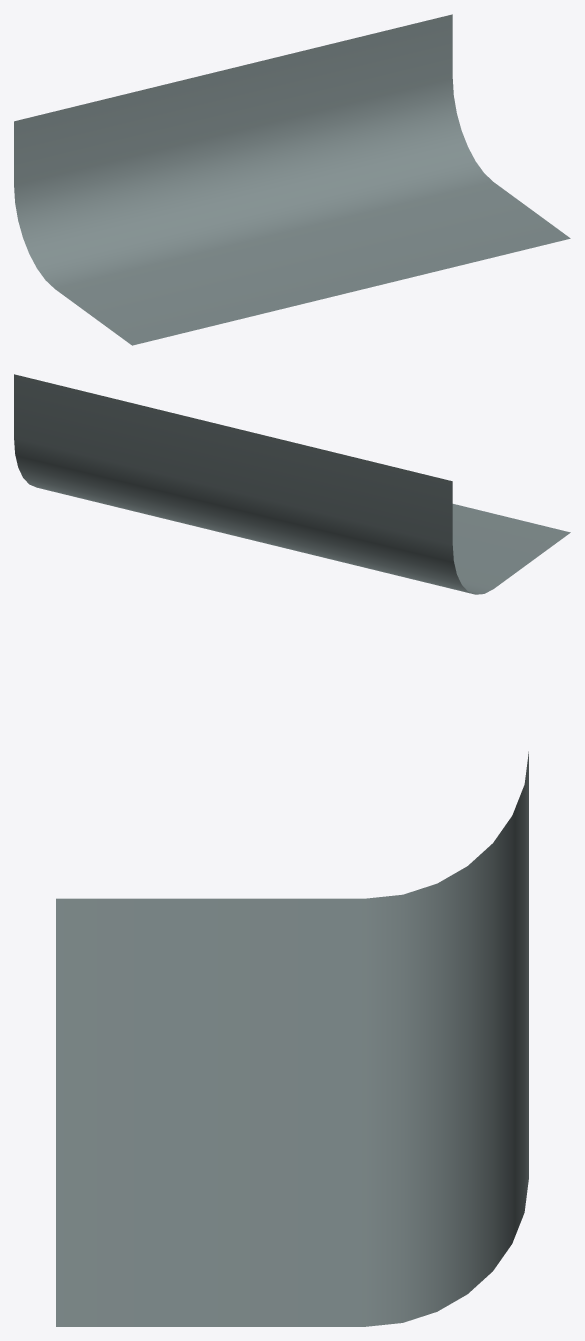
Rendered from BackPlane.fbx.
3 renders of one model, top to bottom at view 1: azimuth 30°, elevation 25°; view 2: azimuth 150°, elevation 25°; view 3: azimuth 270°, elevation 25°, orthographic. The views are drawn at different scales.
Parts seen in each view (by area): view 1: BackPlane; view 2: BackPlane; view 3: BackPlane.
Part boxes in pixels (left/top/right/bottom): BackPlane: left=14, top=14, right=570, bottom=345; BackPlane: left=14, top=374, right=570, bottom=594; BackPlane: left=56, top=751, right=528, bottom=1326.
Bounding box in the file's own units: 1181 × 354 × 551.
